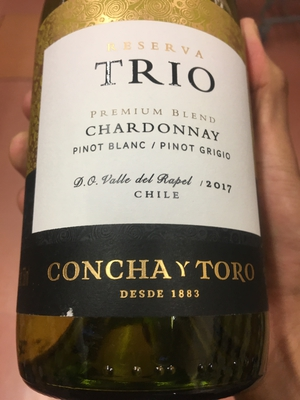trio chardonnay: (18, 6, 267, 400)
